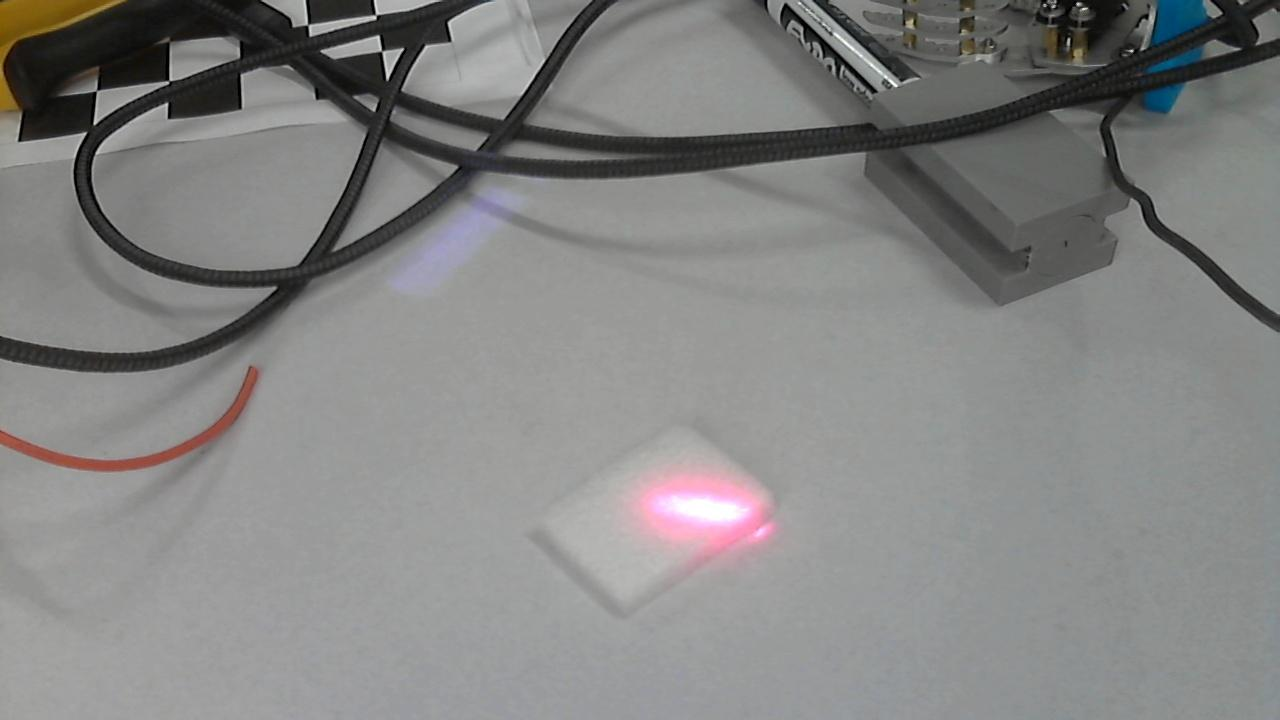Object white rectangular foam block - Material Foam - Color white - Pdfname LpbA: (650, 488, 756, 546)
